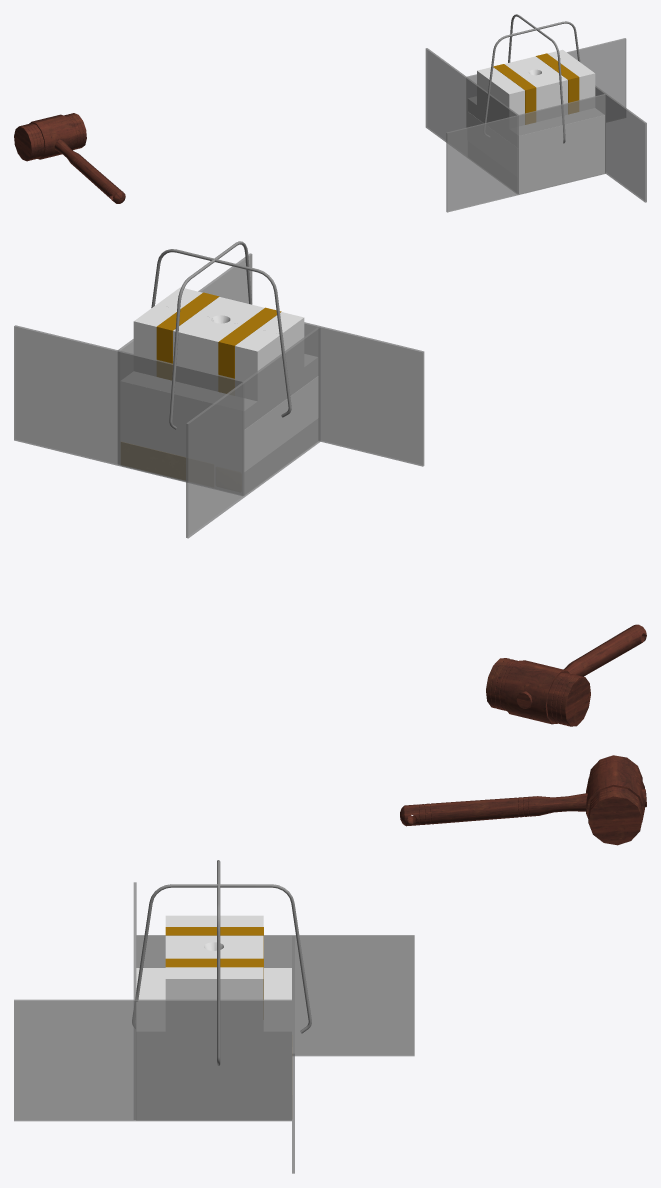
Rendered from YiMo.fbx.
3 renders of one model, top to bottom at view 1: azimuth 30°, elevation 25°; view 2: azimuth 150°, elevation 25°; view 3: azimuth 270°, elevation 25°, orthographic. The views are drawn at different scales.
Visible parts, largest first — view 1: Step_YiMo_WeiBan_003, Step_YiMo_WeiBan_004, Step_YiMo_WeiBan_001, Step_YiMo_XiuZhengZJK_MuChui, Step_YiMo_ChengXing_MoJu_003, Step_YiMo_WeiBan_002, Step_YiMo_ChongFuGuanJiang_NiJiang, Step_YiMo_XiuZhengZJK_MoJu_01 (×2), Step_YiMo_ChengXing_MoJu_002, Step_YiMo_DaoRu_NiJiang, Step_YiMo_ChengXing_TanLiDai_01, Step_YiMo_ChengXing_TanLiDai_02 (+3 smaller); view 2: Step_YiMo_WeiBan_002, Step_YiMo_WeiBan_004, Step_YiMo_WeiBan_003, Step_YiMo_ChengXing_MoJu_002, Step_YiMo_XiuZhengZJK_MuChui, Step_YiMo_DaoRu_NiJiang, Step_YiMo_ChongFuGuanJiang_NiJiang, Step_YiMo_ChengXing_MoJu_003, Step_YiMo_WeiBan_001, Step_YiMo_ChengXing_TanLiDai_01, Step_YiMo_TianNi_02, Step_YiMo_ChengXing_TanLiDai_02 (+3 smaller); view 3: Step_YiMo_WeiBan_001, Step_YiMo_WeiBan_004, Step_YiMo_ChongFuGuanJiang_NiJiang, Step_YiMo_XiuZhengZJK_MuChui, Step_YiMo_ChengXing_MoJu_003, Step_YiMo_ChengXing_MoJu_002, Step_YiMo_XiuZheng_ShiGao, Step_YiMo_WeiBan_JiaZi002, Step_YiMo_ChengXing_TanLiDai_02, Step_YiMo_ChengXing_TanLiDai_01, Step_YiMo_WeiBan_003, Step_YiMo_WeiBan_JiaZi001 (+1 smaller).
Part boxes in pixels (x1,y1,x2,y2): Step_YiMo_WeiBan_003: (446, 94, 605, 212); Step_YiMo_WeiBan_004: (425, 48, 518, 193); Step_YiMo_WeiBan_001: (595, 85, 646, 202); Step_YiMo_XiuZhengZJK_MuChui: (14, 113, 125, 203); Step_YiMo_ChengXing_MoJu_003: (493, 61, 595, 125); Step_YiMo_WeiBan_002: (466, 38, 626, 127); Step_YiMo_ChongFuGuanJiang_NiJiang: (468, 96, 604, 154); Step_YiMo_XiuZhengZJK_MoJu_01 (×2): (475, 105, 604, 193); Step_YiMo_ChengXing_MoJu_002: (477, 49, 578, 122); Step_YiMo_DaoRu_NiJiang: (467, 111, 574, 177); Step_YiMo_ChengXing_TanLiDai_01: (493, 64, 536, 124); Step_YiMo_ChengXing_TanLiDai_02: (536, 53, 579, 113); Step_YiMo_WeiBan_002: (14, 325, 243, 495); Step_YiMo_WeiBan_004: (186, 327, 320, 538); Step_YiMo_WeiBan_003: (304, 322, 424, 466); Step_YiMo_ChengXing_MoJu_002: (133, 304, 280, 484); Step_YiMo_XiuZhengZJK_MuChui: (486, 624, 646, 726); Step_YiMo_DaoRu_NiJiang: (120, 376, 318, 471); Step_YiMo_ChongFuGuanJiang_NiJiang: (120, 354, 317, 438); Step_YiMo_ChengXing_MoJu_003: (157, 287, 304, 402); Step_YiMo_WeiBan_001: (117, 253, 252, 464); Step_YiMo_ChengXing_TanLiDai_01: (218, 307, 281, 393); Step_YiMo_TianNi_02: (120, 441, 185, 480); Step_YiMo_ChengXing_TanLiDai_02: (156, 292, 219, 379); Step_YiMo_WeiBan_001: (14, 999, 291, 1121); Step_YiMo_WeiBan_004: (136, 935, 414, 1056); Step_YiMo_ChongFuGuanJiang_NiJiang: (136, 968, 291, 1075); Step_YiMo_XiuZhengZJK_MuChui: (400, 755, 646, 845); Step_YiMo_ChengXing_MoJu_003: (165, 915, 214, 1120); Step_YiMo_ChengXing_MoJu_002: (214, 915, 263, 1120); Step_YiMo_XiuZheng_ShiGao: (136, 1076, 291, 1120); Step_YiMo_WeiBan_JiaZi002: (132, 884, 311, 1033); Step_YiMo_ChengXing_TanLiDai_02: (165, 958, 263, 999); Step_YiMo_ChengXing_TanLiDai_01: (165, 927, 263, 958); Step_YiMo_WeiBan_003: (133, 882, 136, 1119); Step_YiMo_WeiBan_JiaZi001: (217, 860, 220, 1065).
Size of the model in its own units: 89.65 by 23.43 by 65.21.
